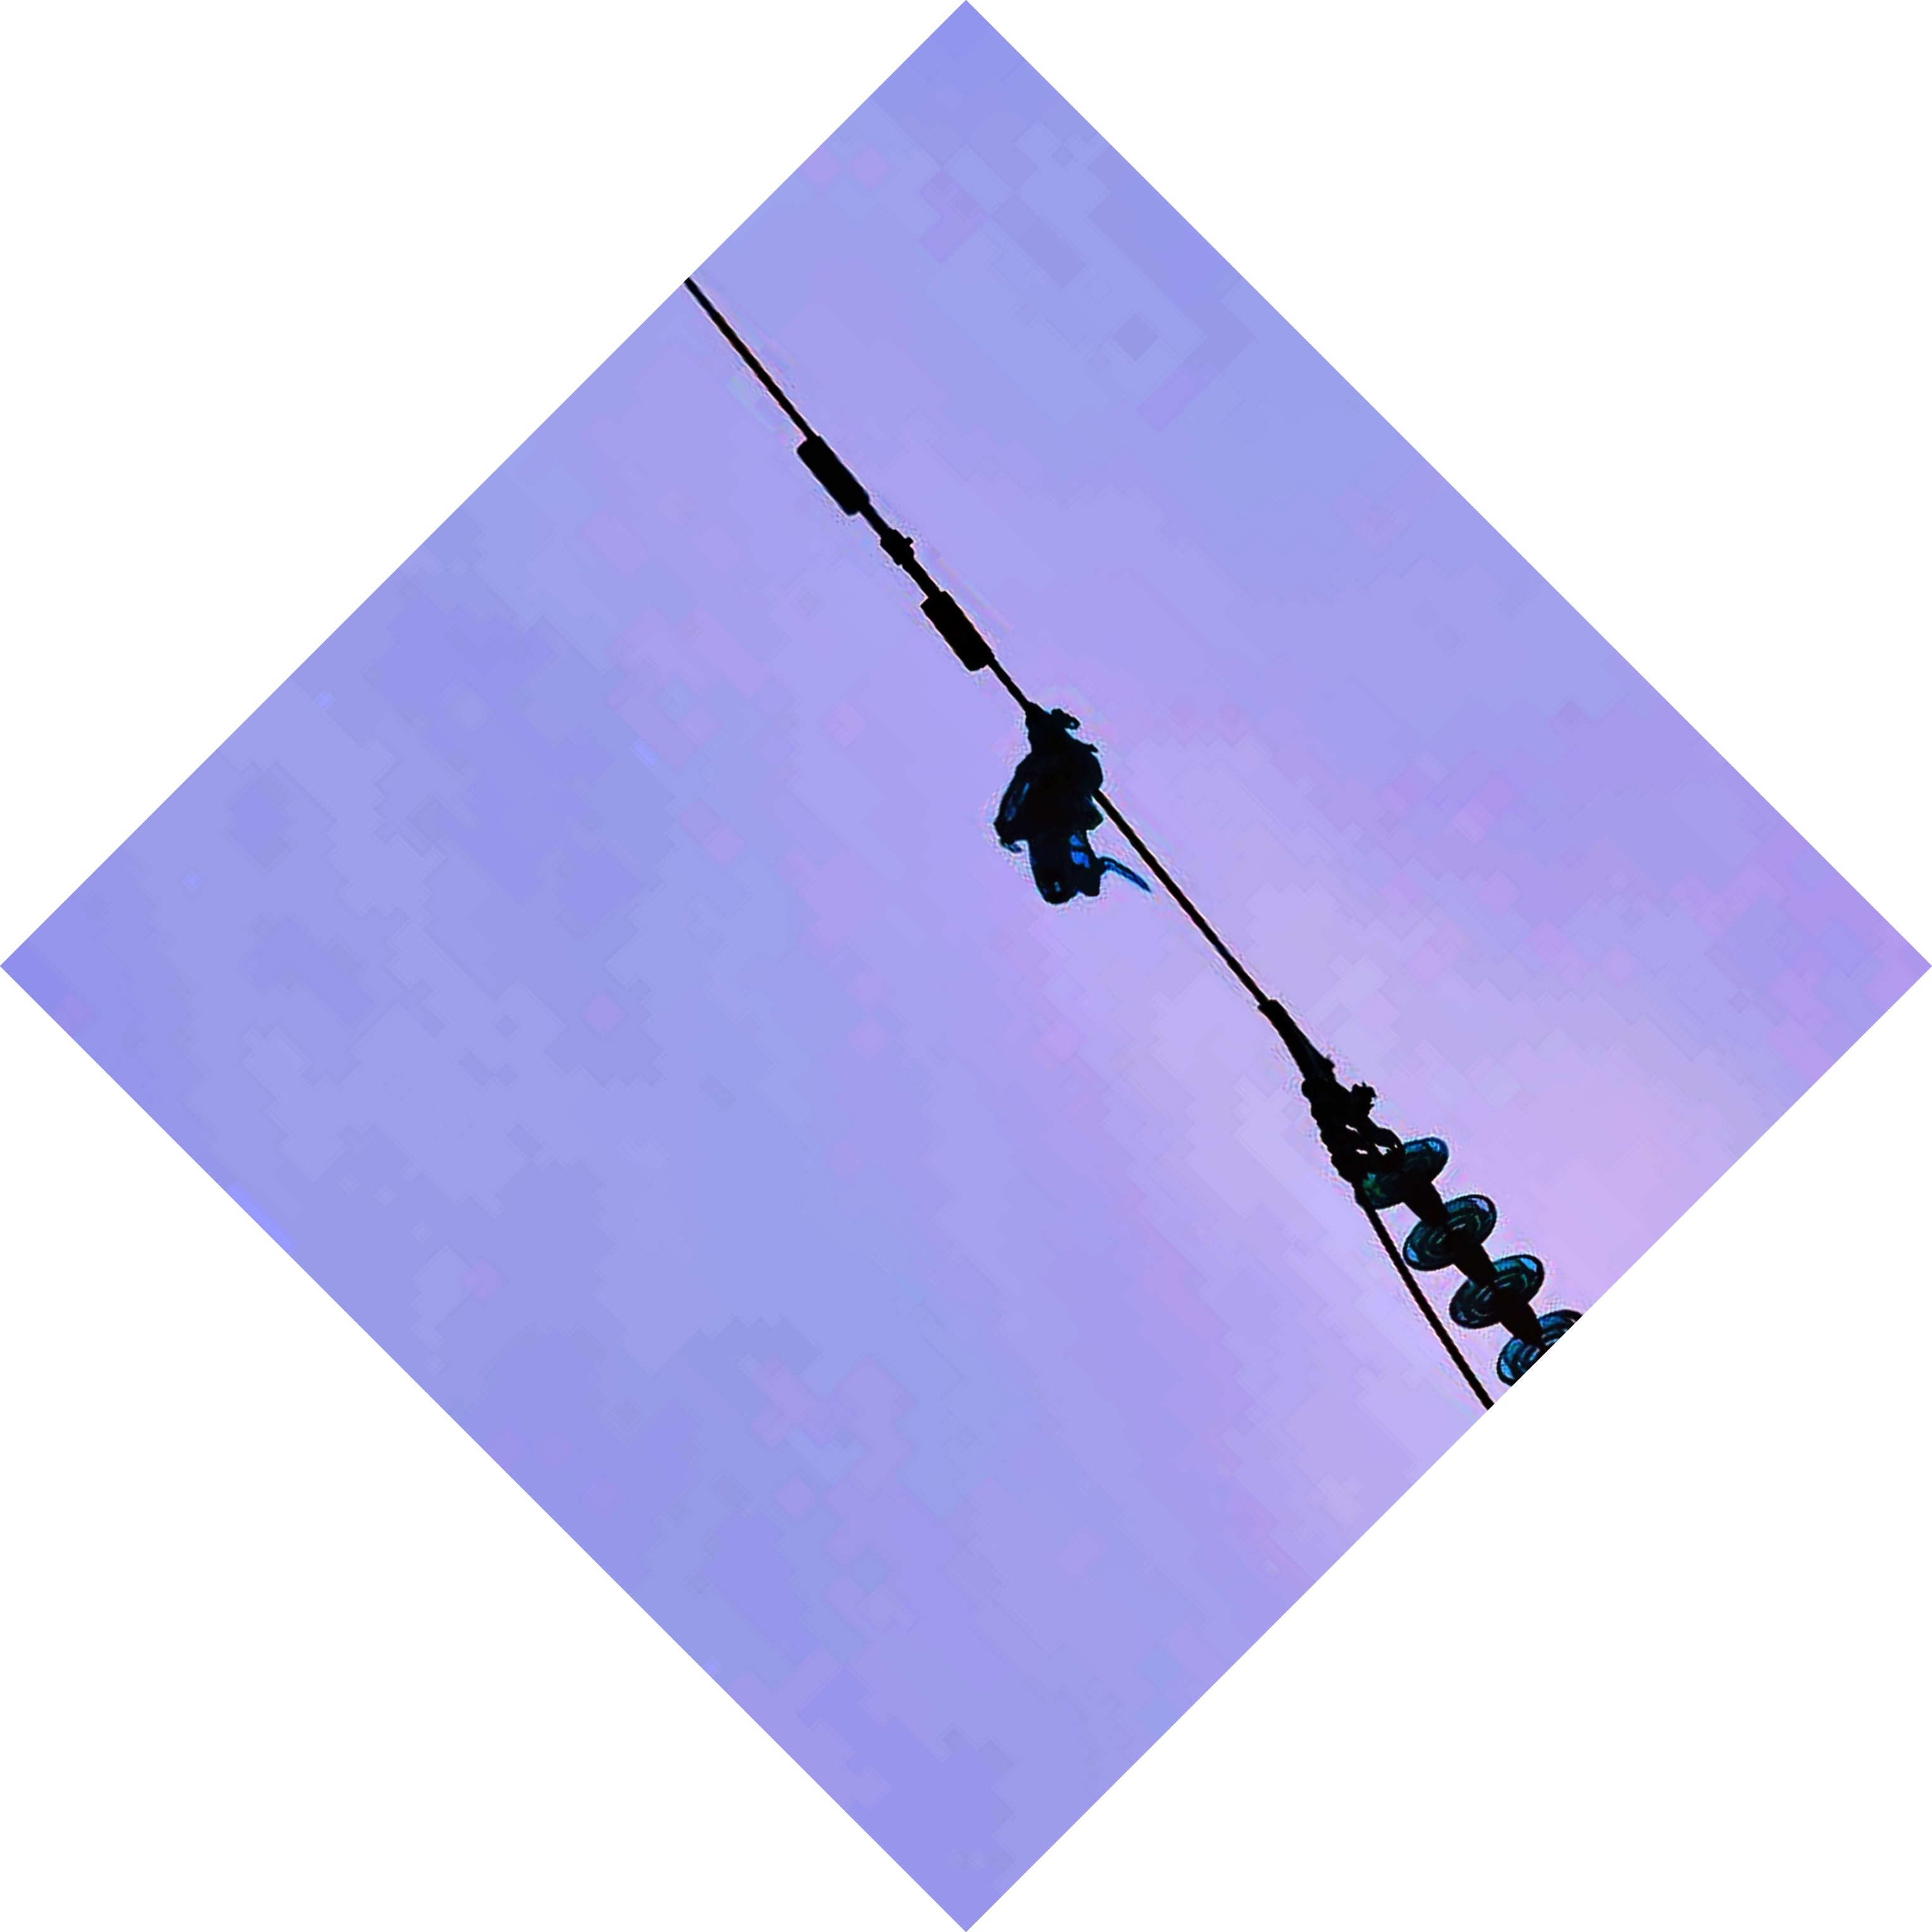wire foreign body: (934, 685, 1154, 936)
